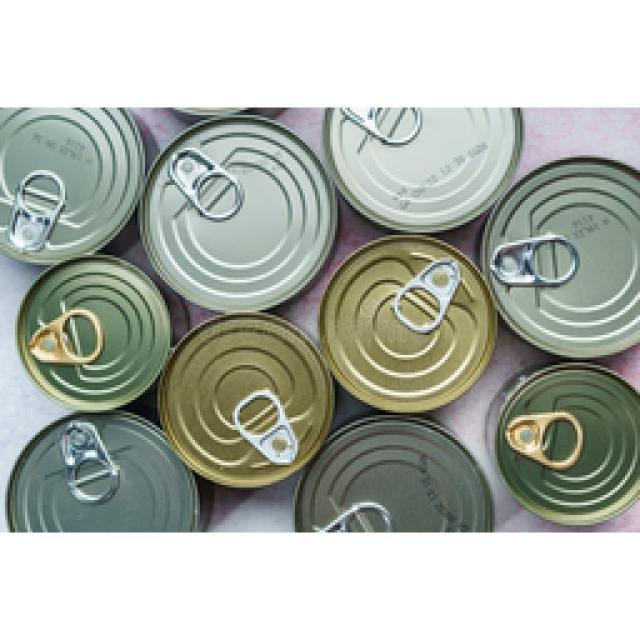alumunium: (10, 108, 638, 530), (0, 108, 142, 262), (500, 365, 638, 520)
